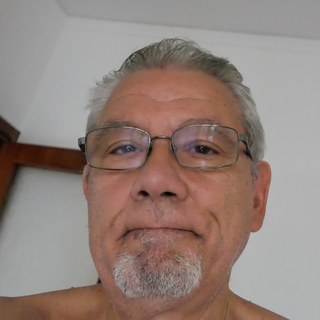eye: (179, 138, 224, 163), (104, 140, 143, 159)
